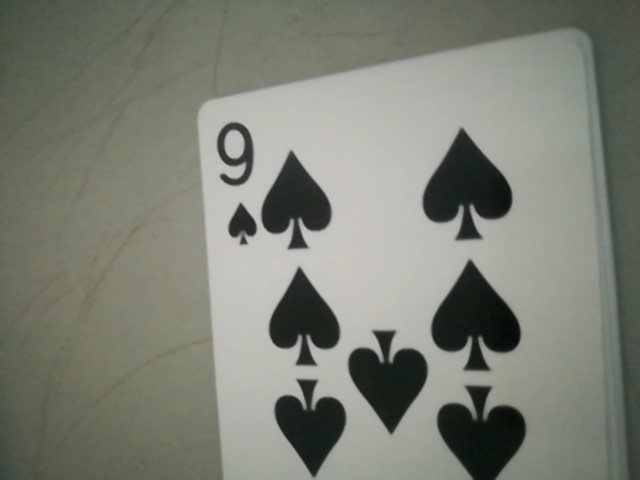ht 9: (203, 113, 268, 253)
